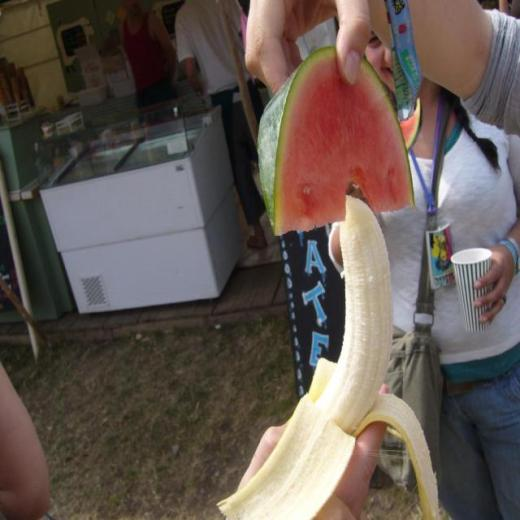Cherry: (256, 45, 418, 236)
